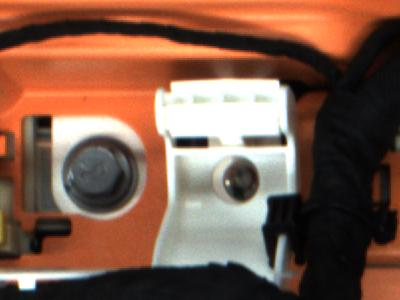nut_b: (55, 131, 143, 208)
